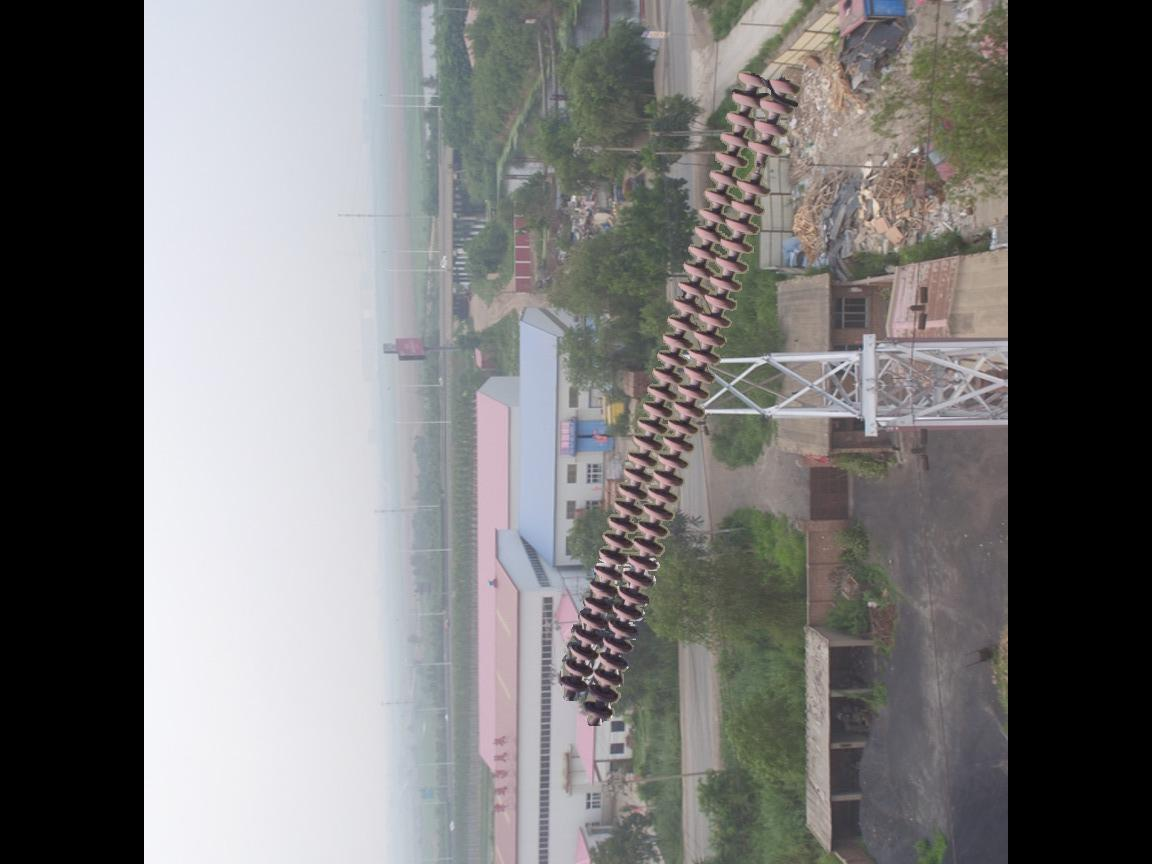insulator: (554, 67, 801, 731)
insulator_stringdrop: (733, 139, 784, 200)
